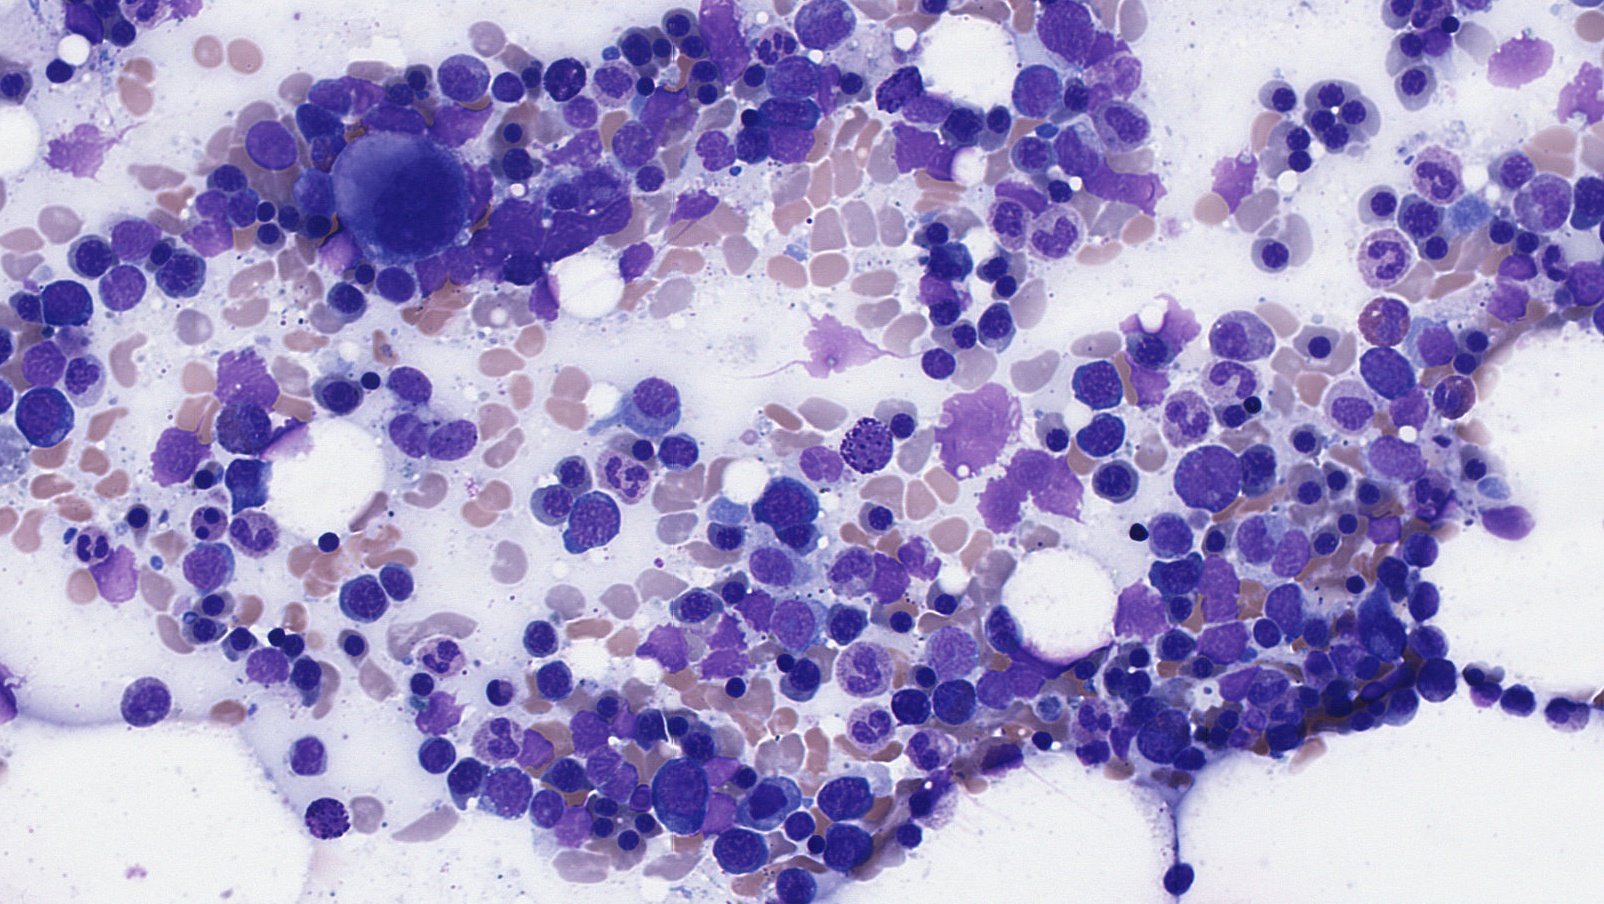objectness: (537, 53, 587, 104), (897, 726, 947, 776), (474, 714, 524, 764), (418, 630, 468, 680), (1362, 344, 1412, 394), (886, 813, 936, 863), (1405, 467, 1455, 518), (538, 170, 588, 220), (1071, 160, 1121, 210), (800, 432, 850, 482), (1079, 19, 1129, 69), (1003, 173, 1053, 224), (874, 62, 924, 112), (225, 456, 275, 507), (291, 92, 342, 143), (345, 356, 395, 406), (1112, 586, 1162, 636), (1145, 509, 1195, 559), (104, 214, 154, 264), (1102, 705, 1152, 755), (1006, 442, 1056, 492), (864, 554, 914, 605), (507, 53, 557, 104), (909, 84, 960, 134), (484, 64, 534, 115), (1482, 497, 1532, 547), (1363, 552, 1413, 602), (1050, 128, 1101, 178), (1177, 650, 1227, 700), (549, 802, 599, 852), (1039, 475, 1090, 525), (915, 140, 966, 190), (246, 640, 296, 690), (1201, 702, 1251, 753), (182, 542, 232, 592), (822, 597, 873, 647), (1069, 356, 1119, 406), (1385, 18, 1435, 68), (1210, 391, 1260, 442), (1394, 194, 1444, 244), (1297, 92, 1347, 143), (854, 495, 904, 546), (668, 20, 718, 70), (1233, 442, 1283, 492), (971, 293, 1021, 344), (940, 312, 990, 362), (1275, 139, 1325, 189), (1310, 451, 1361, 502), (1155, 552, 1205, 602), (182, 606, 232, 656), (1050, 74, 1101, 124), (280, 650, 330, 700), (299, 795, 349, 845), (837, 422, 887, 472), (627, 374, 678, 424), (1232, 513, 1282, 563), (1202, 346, 1251, 396), (844, 714, 895, 763), (984, 187, 1034, 237), (1067, 694, 1117, 744), (1373, 230, 1423, 280), (1418, 156, 1468, 206), (844, 645, 895, 695), (1525, 239, 1575, 288), (1324, 390, 1374, 440), (1362, 298, 1412, 348), (824, 541, 874, 591), (1028, 219, 1079, 269), (1178, 450, 1228, 500), (294, 171, 344, 221), (952, 407, 1003, 457), (1413, 19, 1463, 69), (1233, 609, 1283, 658), (492, 202, 542, 252), (941, 102, 991, 152), (1248, 671, 1298, 721), (904, 778, 954, 829), (564, 704, 614, 754), (926, 676, 977, 726), (1019, 717, 1069, 767), (616, 775, 666, 825), (1491, 148, 1541, 197), (264, 193, 314, 243), (980, 736, 1030, 786), (1462, 674, 1511, 725), (220, 182, 270, 232), (1288, 613, 1339, 663), (216, 401, 265, 451), (666, 184, 716, 235), (91, 553, 141, 603), (1411, 325, 1461, 375), (407, 244, 457, 294), (509, 726, 559, 776), (1166, 737, 1215, 787), (576, 738, 626, 788), (1058, 645, 1108, 695), (1144, 711, 1194, 761), (1090, 654, 1140, 704), (1048, 13, 1098, 63), (1124, 359, 1174, 409), (1265, 523, 1315, 573), (888, 529, 938, 579), (728, 585, 778, 635), (1353, 503, 1403, 553), (464, 221, 514, 271), (1470, 460, 1520, 510), (881, 682, 931, 732), (317, 226, 367, 276), (325, 61, 375, 111), (189, 179, 240, 229), (1441, 184, 1491, 235), (1285, 642, 1335, 691), (748, 542, 798, 592), (52, 124, 102, 174), (697, 640, 747, 690), (983, 483, 1033, 533), (637, 91, 687, 141), (267, 621, 317, 671), (59, 351, 110, 401), (1213, 660, 1262, 710), (474, 668, 524, 718), (691, 131, 741, 181), (1155, 851, 1205, 901), (1336, 562, 1386, 612), (1493, 243, 1543, 293), (1449, 439, 1499, 489), (595, 192, 644, 242), (491, 138, 541, 188), (1493, 680, 1543, 730), (1356, 608, 1406, 658), (375, 70, 425, 120), (1421, 662, 1471, 712), (788, 823, 838, 872), (297, 128, 347, 178), (529, 654, 579, 704), (966, 663, 1016, 714), (373, 257, 423, 307), (819, 823, 868, 873), (576, 804, 626, 854), (582, 679, 632, 729), (98, 8, 148, 58), (1256, 75, 1305, 126), (202, 153, 252, 203), (1411, 224, 1461, 274), (982, 262, 1032, 312), (918, 581, 968, 631), (680, 69, 730, 119), (780, 649, 830, 699), (516, 616, 566, 665), (627, 700, 678, 750), (136, 229, 186, 279), (40, 276, 90, 326), (1304, 72, 1354, 122), (323, 274, 373, 324), (1303, 519, 1353, 569), (620, 802, 670, 852), (680, 45, 730, 95), (1292, 323, 1342, 373), (716, 826, 766, 876), (438, 753, 489, 803), (573, 495, 624, 545), (1502, 219, 1552, 269), (669, 582, 719, 632), (917, 287, 967, 337), (155, 248, 205, 298), (900, 652, 950, 702), (874, 599, 924, 649), (534, 478, 584, 529), (2, 279, 52, 329), (1073, 411, 1123, 461), (410, 730, 460, 780), (728, 51, 778, 101), (1274, 113, 1324, 163), (636, 23, 686, 73), (1190, 518, 1240, 567), (1285, 468, 1335, 518), (1329, 88, 1379, 138), (488, 107, 538, 157), (601, 817, 652, 867), (817, 772, 867, 823), (702, 515, 752, 565), (616, 426, 666, 476), (624, 156, 674, 206), (576, 781, 626, 831), (189, 579, 240, 629), (1310, 112, 1361, 162), (1153, 395, 1203, 445), (752, 15, 802, 65), (58, 525, 108, 575), (586, 451, 636, 501), (223, 516, 272, 566), (436, 55, 486, 105), (1204, 311, 1254, 360), (589, 57, 639, 107), (121, 676, 171, 726), (802, 0, 852, 50), (1432, 375, 1482, 425), (1101, 98, 1150, 148), (1531, 178, 1581, 228), (1010, 65, 1060, 115), (422, 101, 472, 151), (242, 186, 292, 236), (187, 211, 237, 261), (1072, 731, 1121, 781), (1484, 277, 1533, 327), (613, 239, 662, 288), (1540, 691, 1590, 741), (1408, 622, 1457, 672), (763, 119, 813, 168), (1152, 582, 1202, 632), (1261, 582, 1311, 632), (1389, 384, 1439, 434), (1370, 435, 1420, 484), (1031, 686, 1081, 736), (230, 349, 280, 399), (1195, 621, 1245, 671), (520, 276, 570, 326), (544, 209, 594, 259), (1224, 712, 1274, 762), (554, 90, 604, 140), (705, 36, 755, 86), (295, 198, 345, 248), (704, 609, 754, 658), (416, 688, 466, 738), (1105, 46, 1155, 96), (1397, 581, 1446, 631), (1159, 298, 1209, 348), (920, 240, 969, 290), (695, 741, 745, 791), (891, 123, 941, 173), (250, 613, 300, 663), (640, 620, 690, 669), (1262, 709, 1312, 759), (1215, 163, 1265, 213), (152, 426, 202, 476), (499, 243, 549, 293), (1229, 698, 1279, 748), (1116, 665, 1166, 715), (770, 600, 820, 650), (1495, 35, 1545, 85), (1269, 680, 1319, 730), (1343, 645, 1392, 695), (1194, 571, 1244, 621), (184, 495, 234, 545), (976, 599, 1026, 649), (743, 775, 792, 825), (14, 342, 64, 392), (772, 799, 822, 849), (362, 101, 412, 151), (574, 164, 624, 214), (998, 654, 1048, 704), (1098, 163, 1148, 213), (595, 763, 644, 813), (968, 240, 1018, 290), (556, 126, 606, 175), (610, 123, 660, 173), (696, 480, 746, 530), (694, 788, 744, 838), (303, 513, 353, 563), (98, 263, 148, 313), (282, 730, 332, 780), (524, 784, 574, 834), (651, 427, 701, 477), (372, 559, 422, 609), (772, 48, 822, 98), (1453, 317, 1503, 367), (1441, 338, 1491, 388), (773, 511, 823, 560), (392, 54, 442, 104), (1357, 178, 1407, 228), (975, 98, 1025, 148), (1008, 130, 1058, 179), (541, 751, 590, 800), (342, 571, 391, 621), (708, 569, 758, 619), (1150, 621, 1200, 671), (67, 229, 117, 279), (1033, 166, 1083, 216), (1281, 420, 1331, 469), (828, 57, 878, 107), (546, 448, 596, 498), (1473, 206, 1522, 255), (216, 616, 265, 665), (727, 120, 777, 170), (1032, 416, 1082, 466), (1248, 232, 1298, 282), (12, 384, 62, 434), (655, 700, 705, 750), (653, 0, 703, 50), (910, 208, 960, 258), (1343, 468, 1392, 518), (243, 211, 293, 261), (761, 480, 811, 530), (328, 620, 378, 669), (877, 402, 926, 451), (1389, 57, 1439, 107), (111, 494, 161, 544), (673, 725, 723, 774), (1088, 458, 1138, 508), (610, 22, 660, 72), (653, 767, 703, 817), (1322, 495, 1372, 545), (315, 370, 365, 420), (382, 177, 432, 227), (692, 0, 743, 47), (1562, 76, 1604, 126), (770, 863, 820, 904), (1565, 257, 1604, 307), (1398, 0, 1448, 37), (0, 59, 35, 109)
